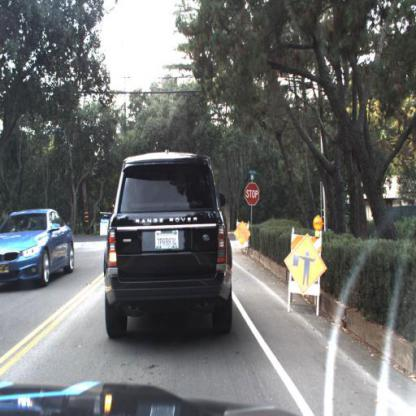car: (103, 150, 235, 335), (1, 203, 79, 293)
